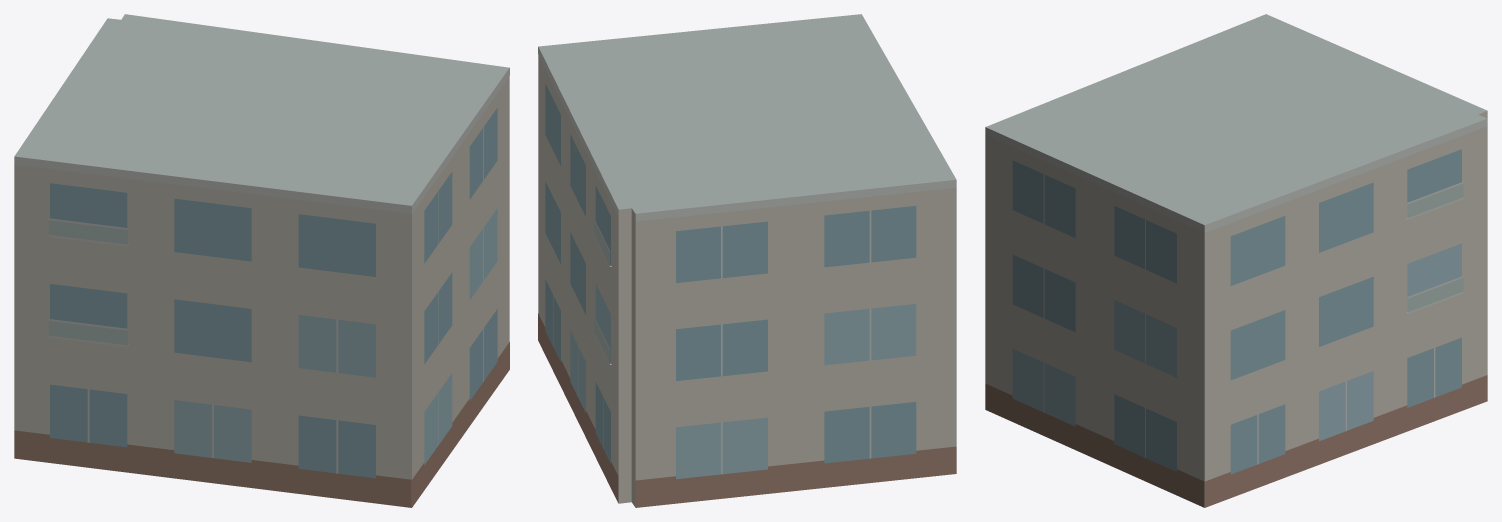
The model's file is survey-upis-32655133.glb.
The picture shows the model from 3 angles, left to right: view 1: azimuth 30°, elevation 25°; view 2: azimuth 150°, elevation 25°; view 3: azimuth 270°, elevation 25°; orthographic projection. The views are drawn at different scales.
Visible parts, largest first — view 1: survey-upis-32655133.tmp; view 2: survey-upis-32655133.tmp; view 3: survey-upis-32655133.tmp.
Part boxes in pixels (left/top/right/bottom): survey-upis-32655133.tmp: left=14, top=14, right=509, bottom=507; survey-upis-32655133.tmp: left=538, top=14, right=956, bottom=507; survey-upis-32655133.tmp: left=985, top=14, right=1487, bottom=507.
Bounding box in the file's own units: 14.67 × 9.15 × 14.74.
